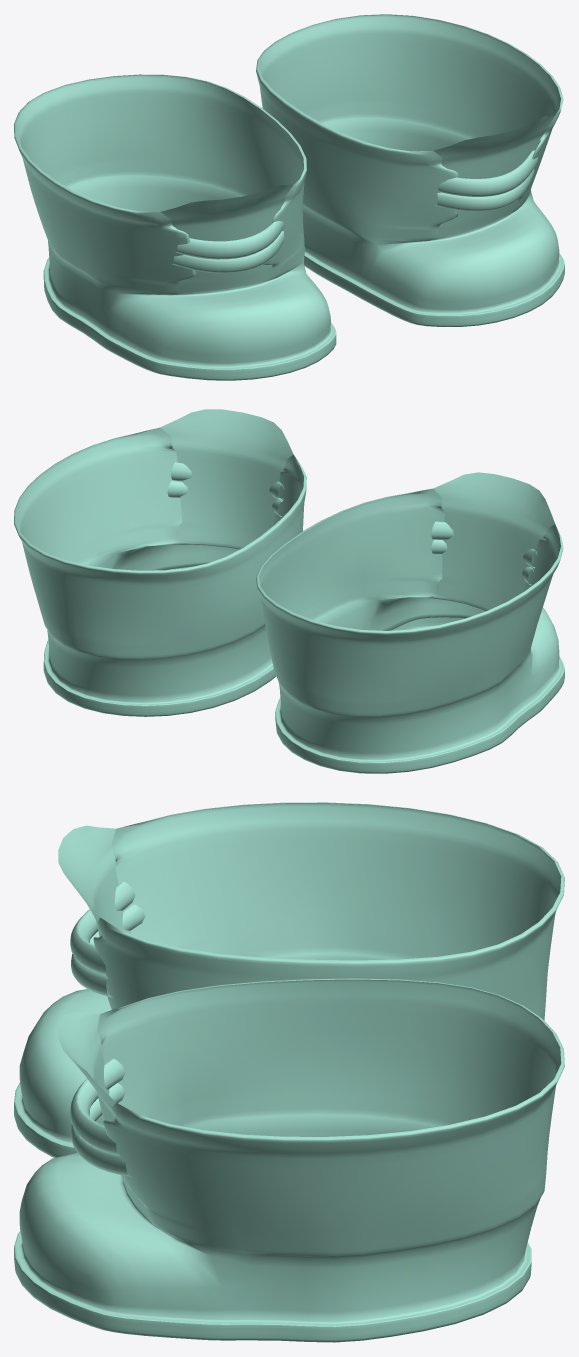
File: Boots08_sneakers (1).fbx
3 renders of one model, top to bottom at view 1: azimuth 30°, elevation 25°; view 2: azimuth 150°, elevation 25°; view 3: azimuth 270°, elevation 25°, orthographic. The views are drawn at different scales.
Visible parts, largest first — view 1: Sneakers_twolace; view 2: Sneakers_twolace; view 3: Sneakers_twolace.
Part boxes in pixels (x1,y1,x2,y2): Sneakers_twolace: (14, 14, 564, 380); Sneakers_twolace: (14, 409, 564, 773); Sneakers_twolace: (14, 802, 564, 1342).
Bounding box in the file's own units: 97.75 × 33.45 × 67.46.
